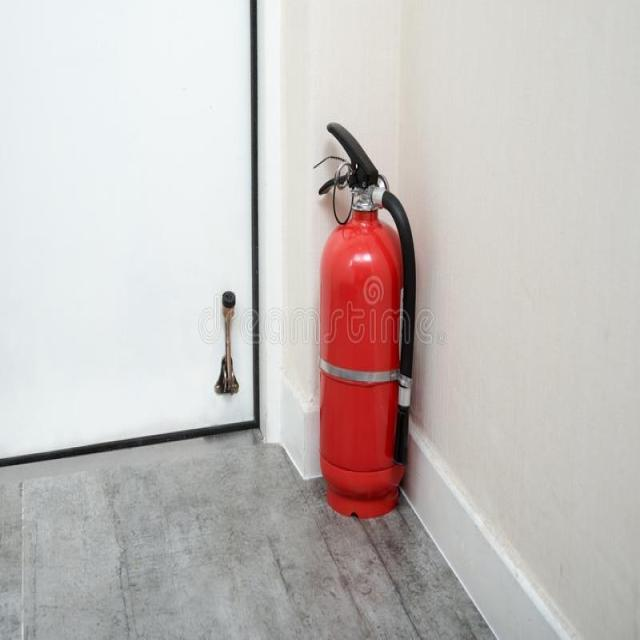fire_extinguisher: (308, 113, 419, 520)
